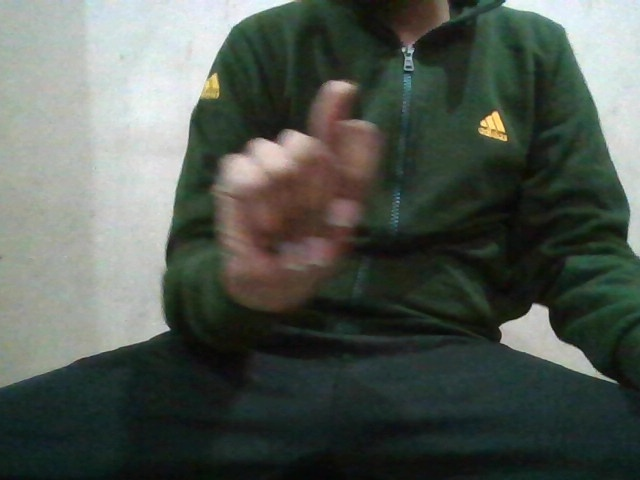T: (211, 78, 392, 307)
